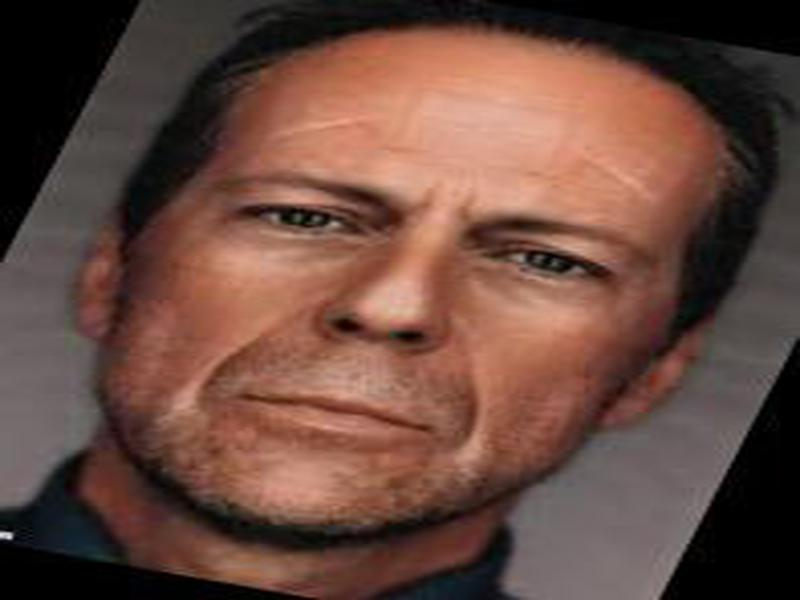without_mask: (108, 33, 708, 548)
